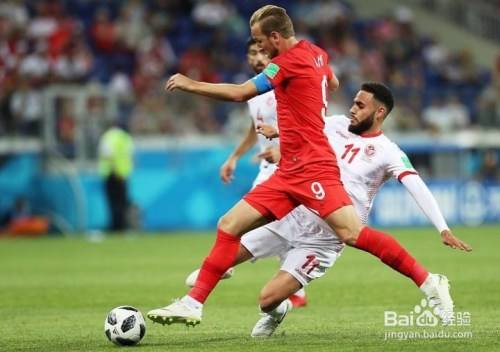football: (103, 307, 147, 347)
